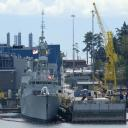Fragata: (17, 7, 65, 124)
